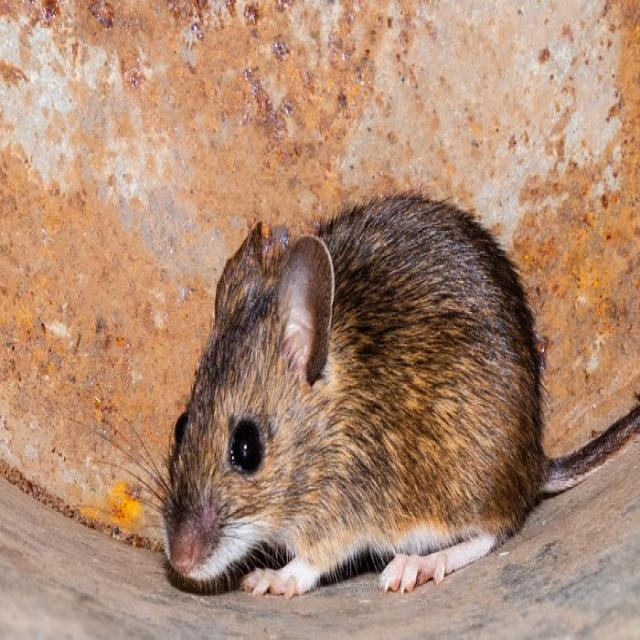rat: (118, 173, 640, 611)
